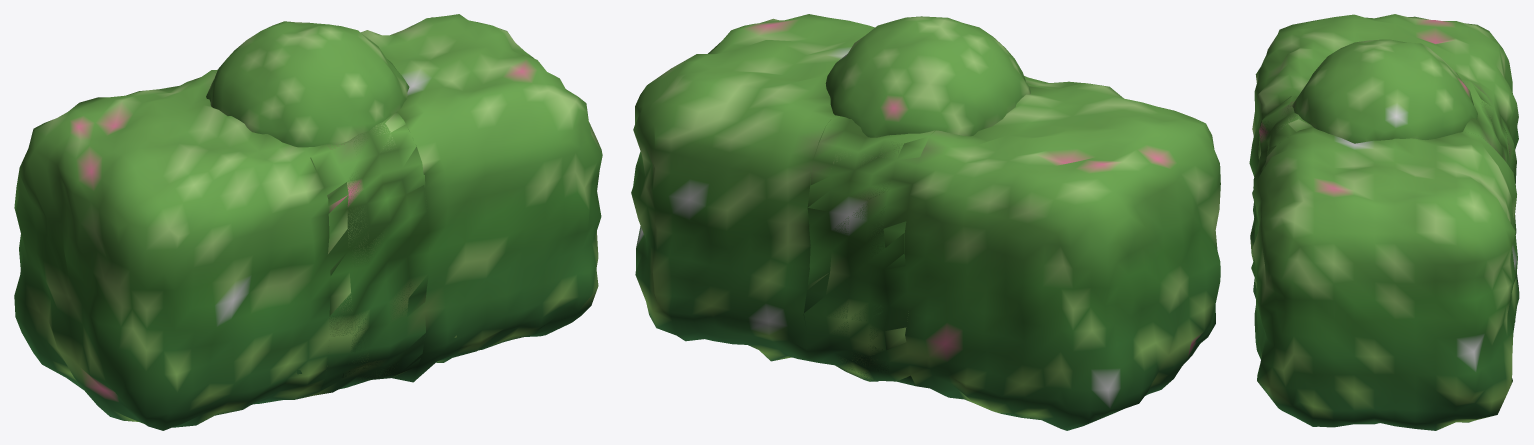
The model's file is setos-CbPcNjfW.glb.
The picture shows the model from 3 angles, left to right: view 1: azimuth 30°, elevation 25°; view 2: azimuth 150°, elevation 25°; view 3: azimuth 270°, elevation 25°; orthographic projection. The views are drawn at different scales.
Visible parts, largest first — view 1: Seto largo, Topiario, Seto corto; view 2: Seto largo, Topiario, Seto corto; view 3: Seto largo, Topiario, Seto corto.
Boxes of the visible parts, left/top/right/bottom form: Seto largo: left=14, top=14, right=602, bottom=430; Topiario: left=206, top=21, right=409, bottom=147; Seto corto: left=211, top=70, right=456, bottom=390; Seto largo: left=631, top=14, right=1220, bottom=430; Topiario: left=825, top=16, right=1030, bottom=137; Seto corto: left=803, top=120, right=935, bottom=386; Seto largo: left=1249, top=14, right=1519, bottom=430; Topiario: left=1292, top=39, right=1477, bottom=143; Seto corto: left=1250, top=82, right=1518, bottom=321.
Size of the model in its own units: 4.11 by 2.57 by 2.12.
